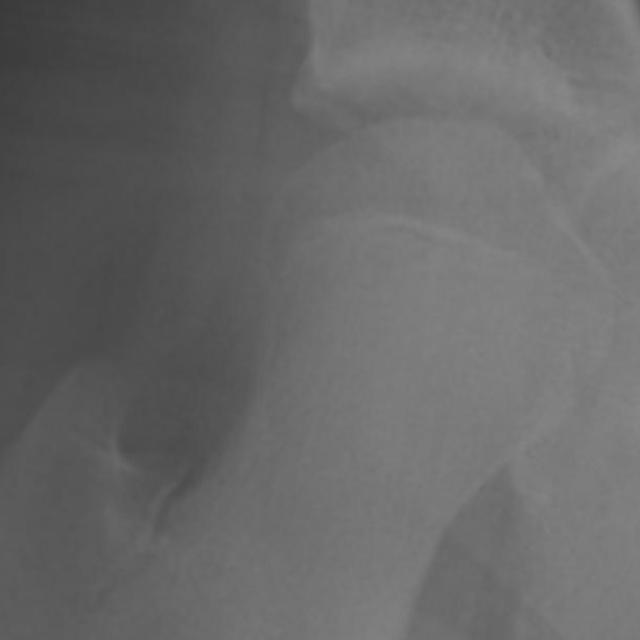Fitted_femural_head: (364, 115, 432, 364)
